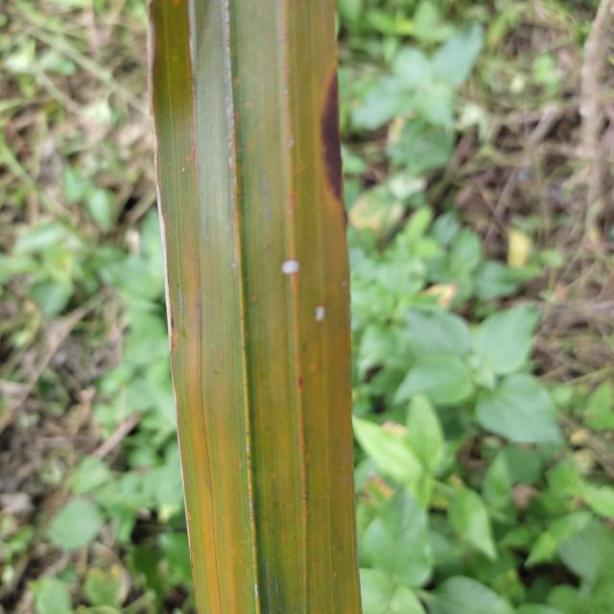Megnesium: (144, 0, 364, 614)
